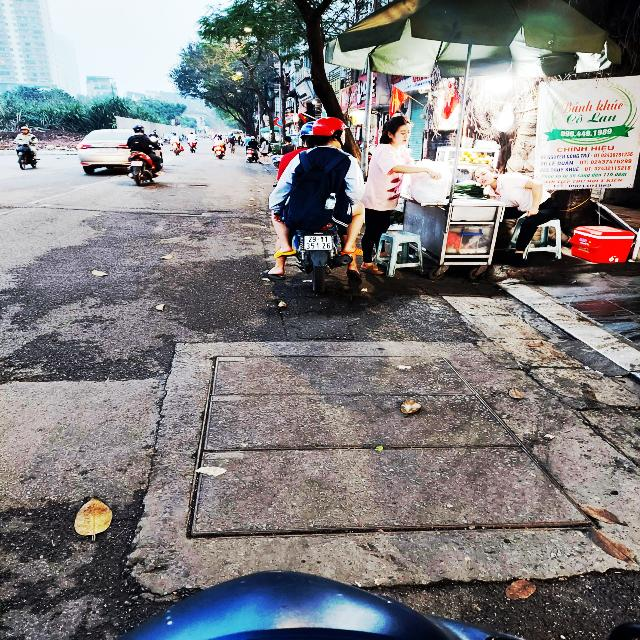license_plate: (305, 236, 334, 251)
